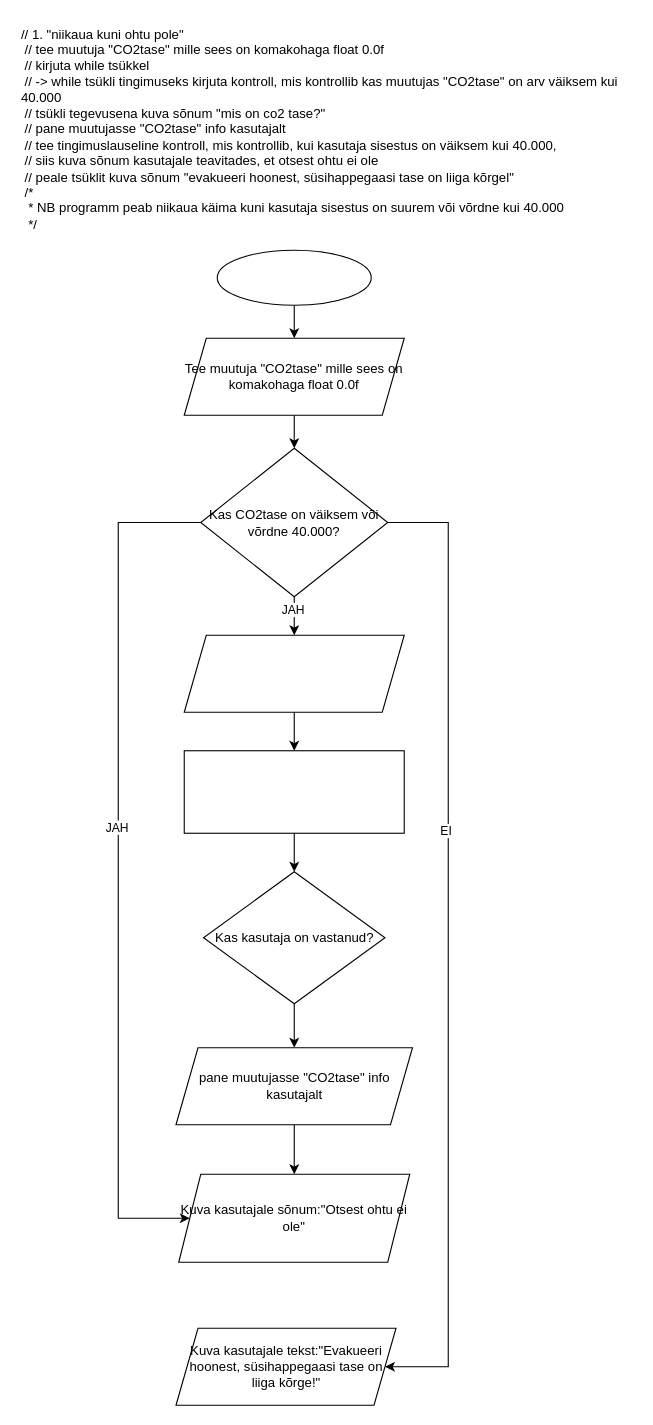
This 653x1425 diagram has some shape labels left out. The shapes that lost their labels are listed below. From the top down, each one's box as (x1, y1, x2, y2) in pixels, then its label:
(216, 249, 371, 305): Algus
(183, 634, 404, 712): Kuva kasutajale sõnum: "Mis on co2 tase?"
(183, 750, 404, 833): Oota kuni kasutaja on vastanud
